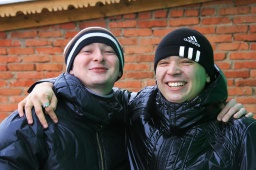male: (146, 32, 214, 106), (73, 25, 128, 93)
